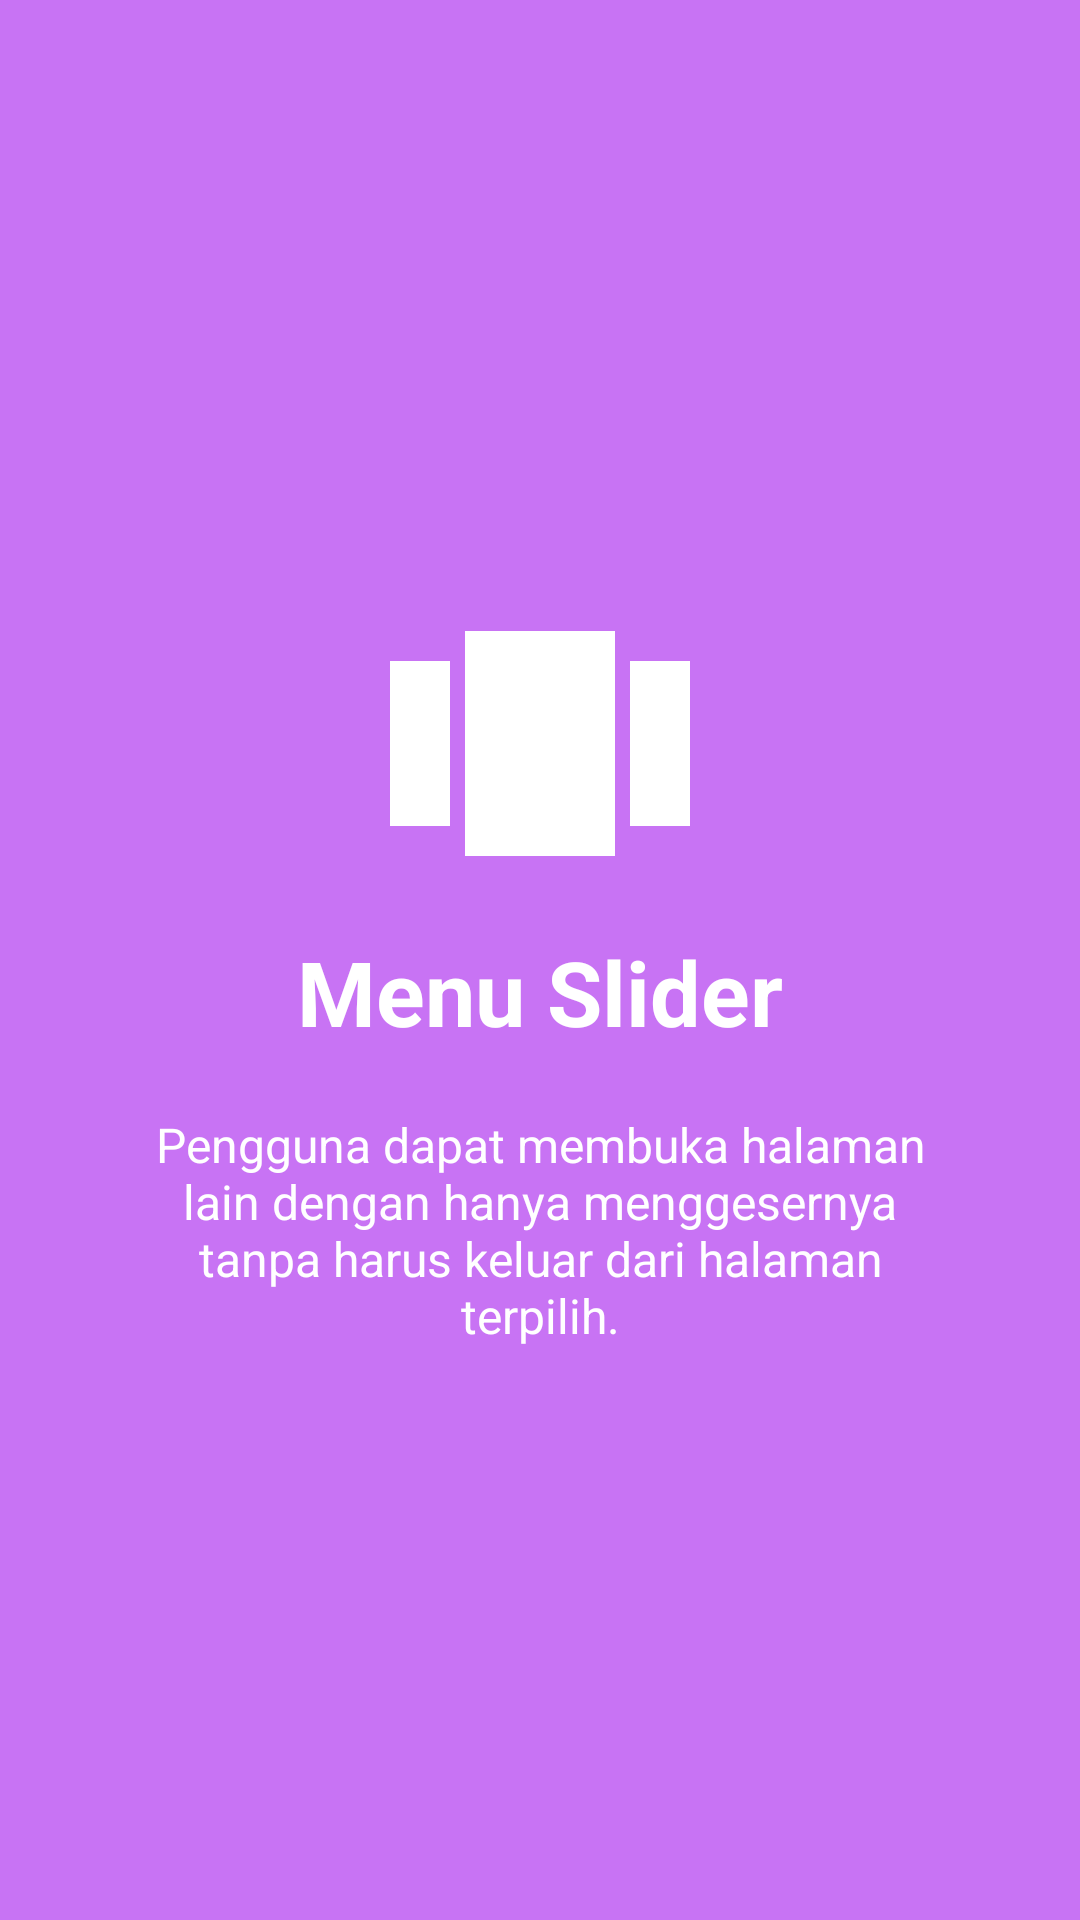

Screen size 1080px x 1920px. Icon name, then its box in pixels as (x1, y1, x2, y2):
view carousel: (390, 631, 690, 856)
